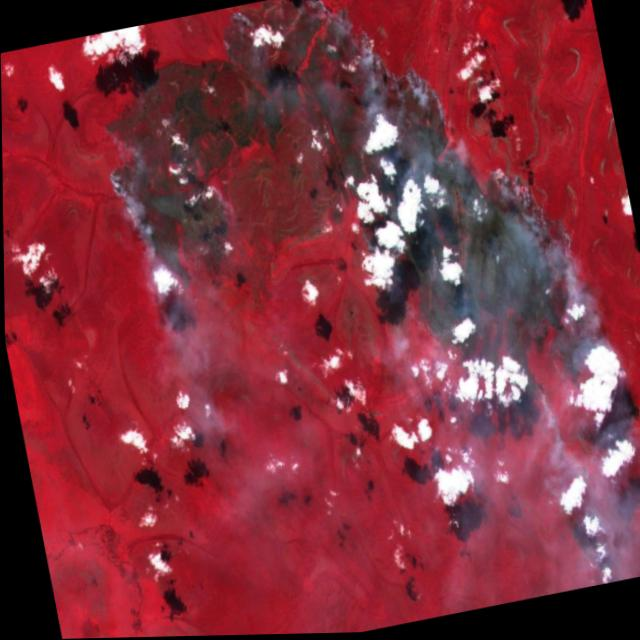fire: (216, 0, 601, 432), (87, 103, 191, 304)
